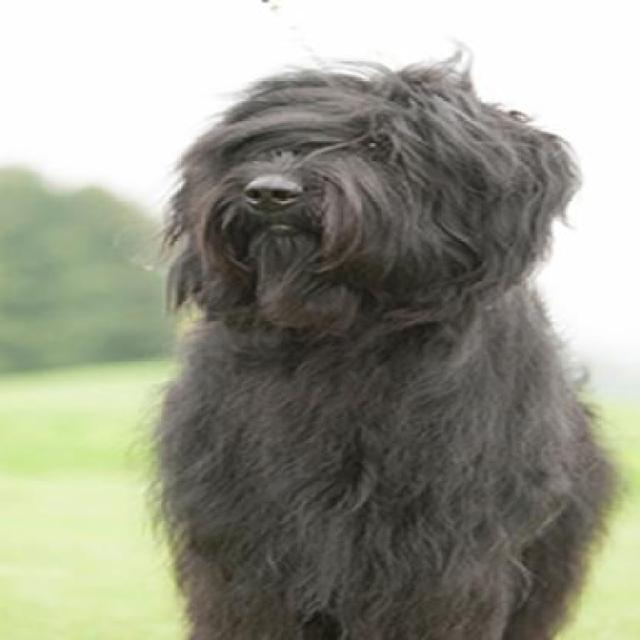animals: (110, 50, 596, 628)
